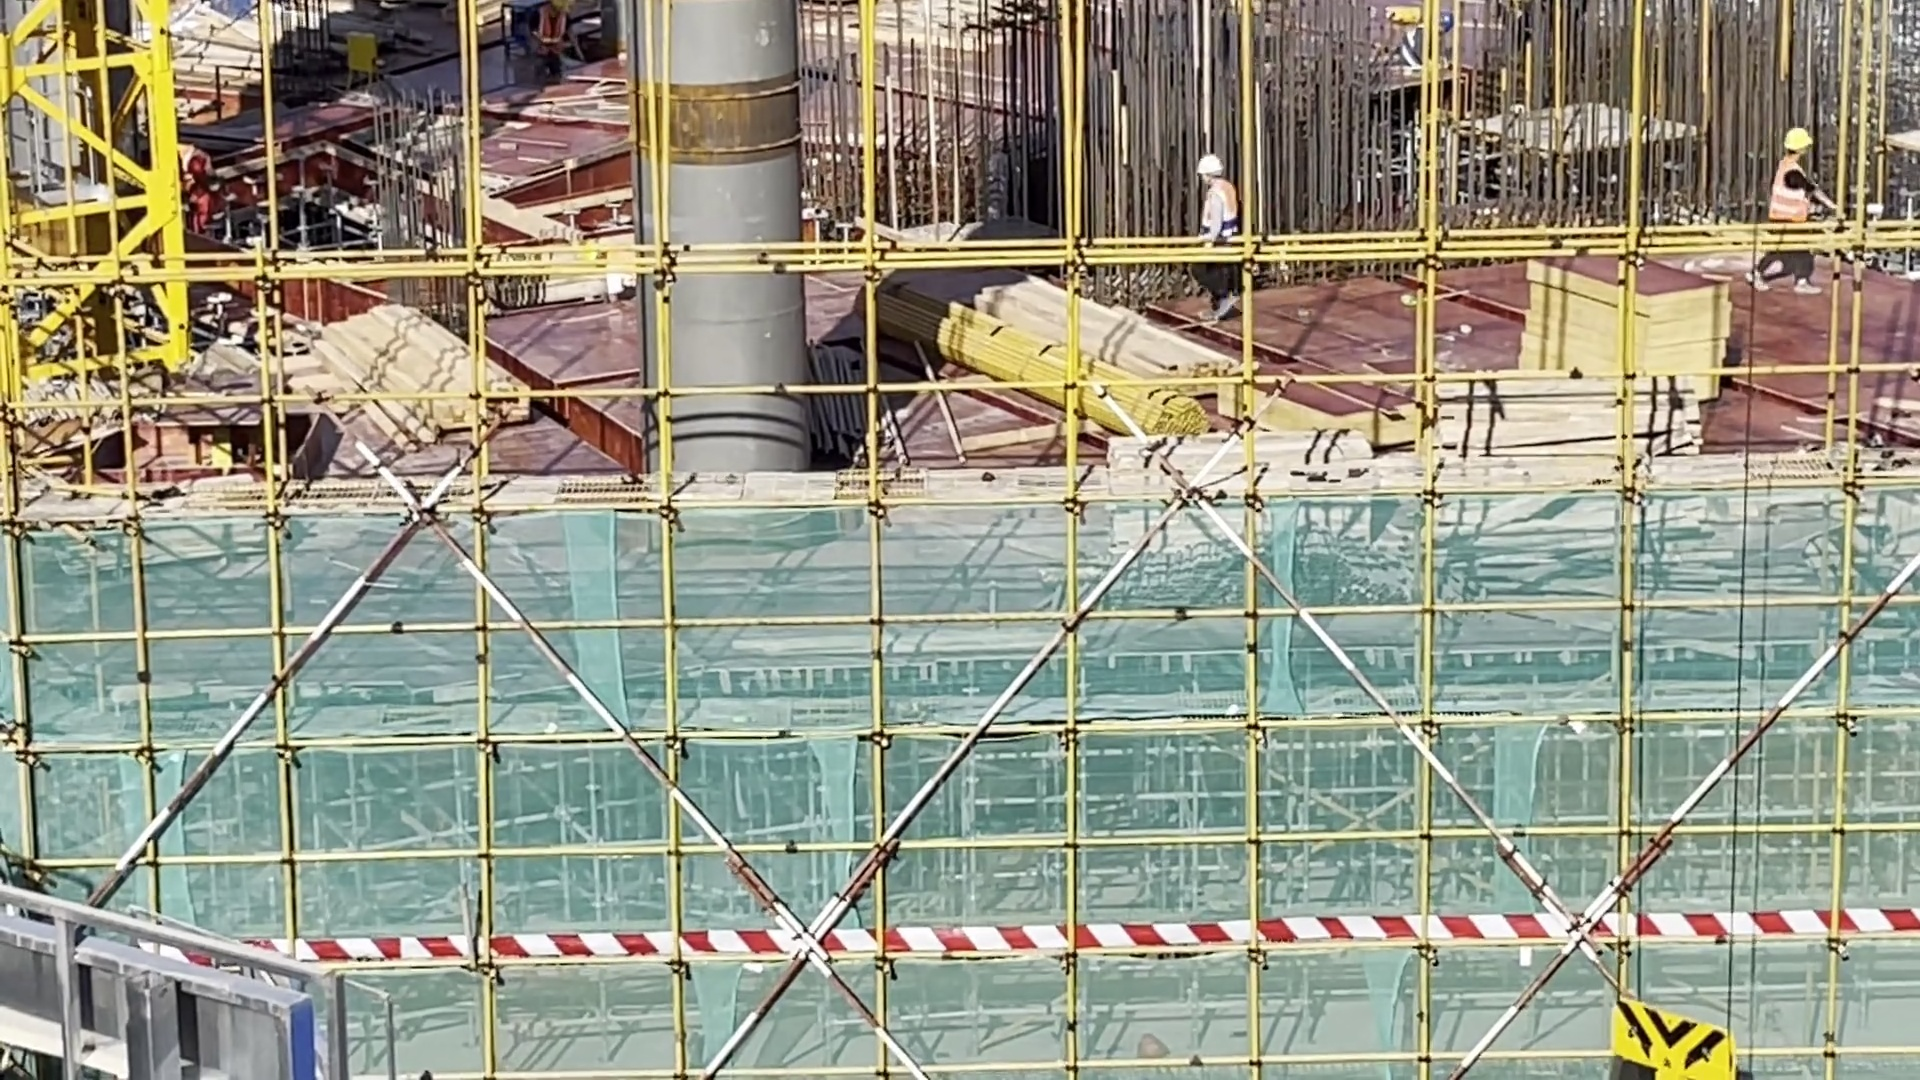board: (1518, 256, 1728, 421)
cutter: (154, 357, 296, 496)
ebox: (346, 37, 384, 76), (226, 449, 244, 479)
helmet: (1774, 126, 1803, 152), (1204, 147, 1221, 181), (589, 241, 602, 270), (1445, 10, 1459, 37)
person: (1761, 130, 1866, 340), (1181, 165, 1246, 335), (162, 136, 229, 238), (574, 235, 632, 300), (1511, 1, 1569, 55), (1400, 1, 1446, 63), (534, 1, 571, 73)
vest: (1779, 161, 1814, 236), (186, 146, 226, 212), (1540, 1, 1568, 57), (1203, 184, 1241, 222), (533, 1, 562, 49), (1409, 17, 1429, 66), (619, 252, 639, 292)
wood: (966, 242, 1173, 437), (338, 319, 534, 464)
